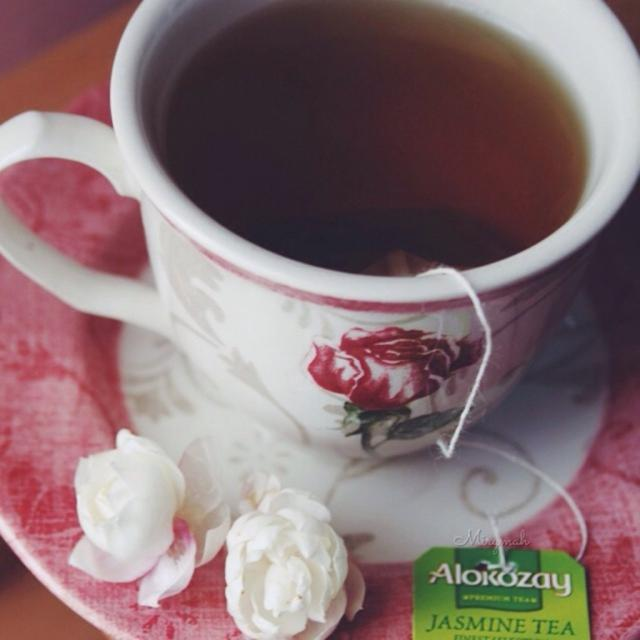Tea: (161, 3, 594, 278)
